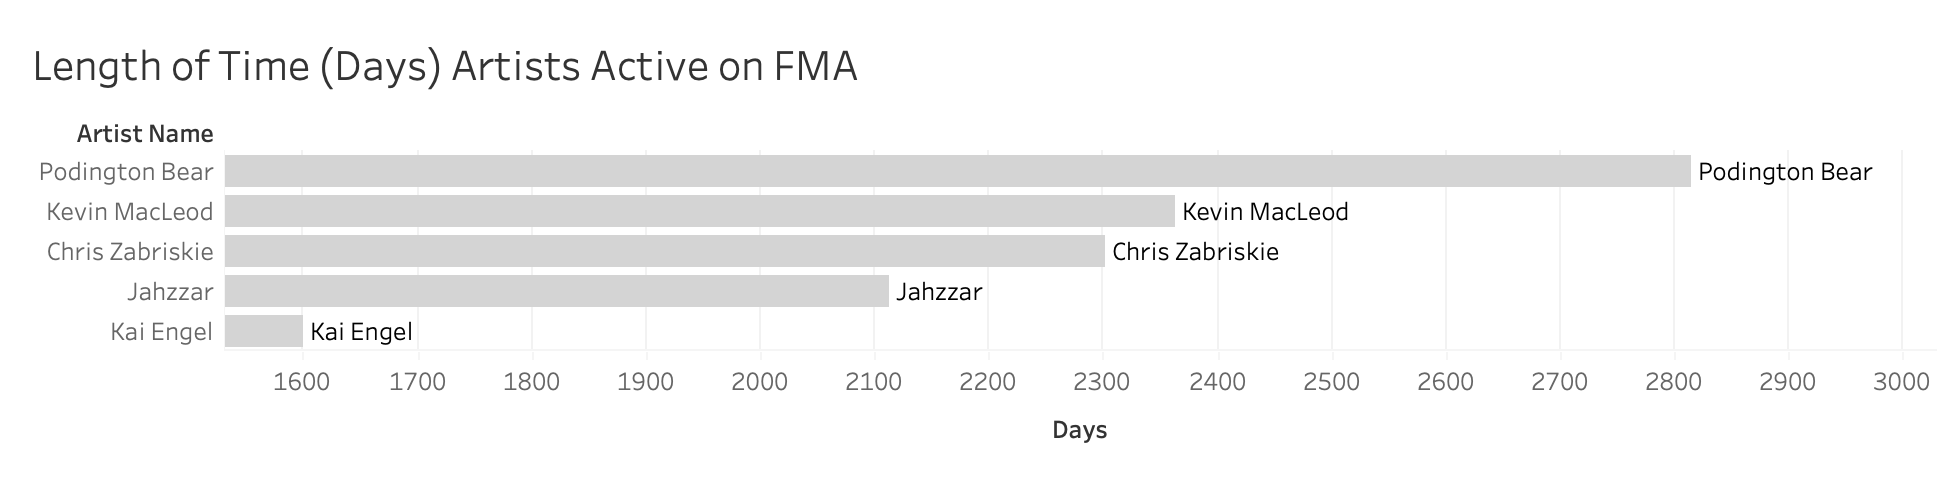

What the dashboard file says about the page in this screenshot:
{"tool":"tableau","page":{"name":"Dashboard 1 (2)","canvas":[1600,900],"ordinal":1},"visuals":[{"type":"worksheet","title":"Sheet 1","mark":"Automatic","box":[8,8,1584,884]}]}

Visuals, with their boxes on the page's 1600x900 design canvas (x1, y1, x2, y2). These are canvas units, not pixel positions in the 1960x500 screenshot, which may show the page scaled, cropped or inside an application window:
"Sheet 1" worksheet: 8, 8, 1592, 892
